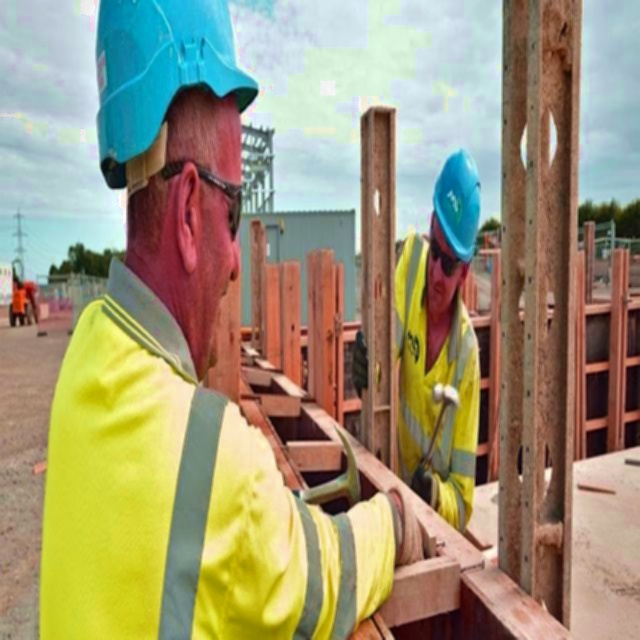Con_Casco: (427, 148, 480, 303)
